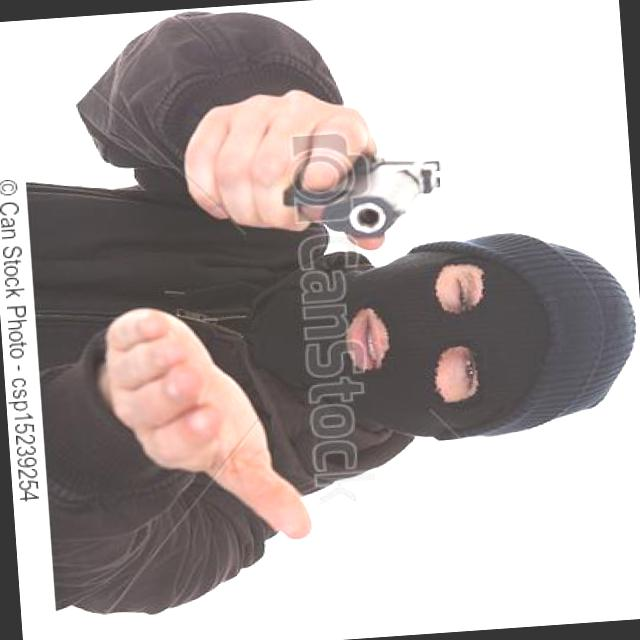handgun: (274, 152, 452, 242)
